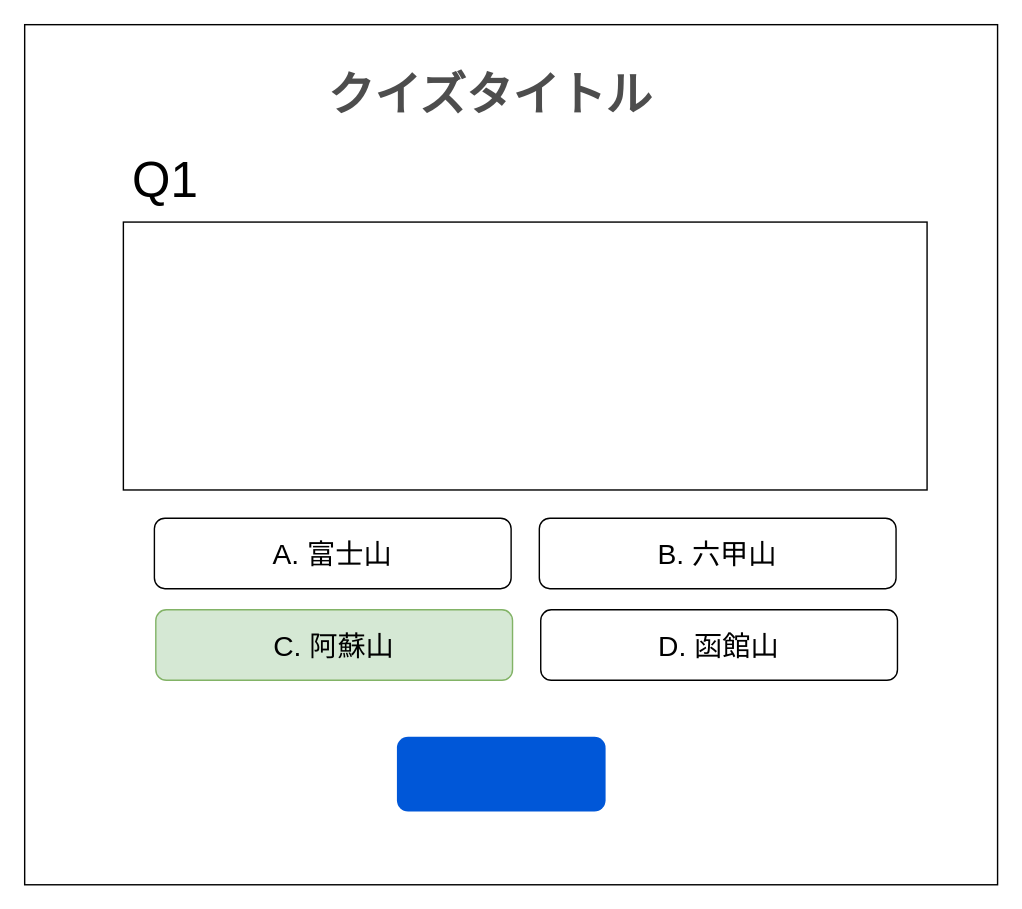
This 1022x909 diagram has some shape labels left out. The centre of each missing label's shape, as x and y in pixels:
回答する: pixel 500 773
日本で一番高い山の名前は？: pixel 524 355
